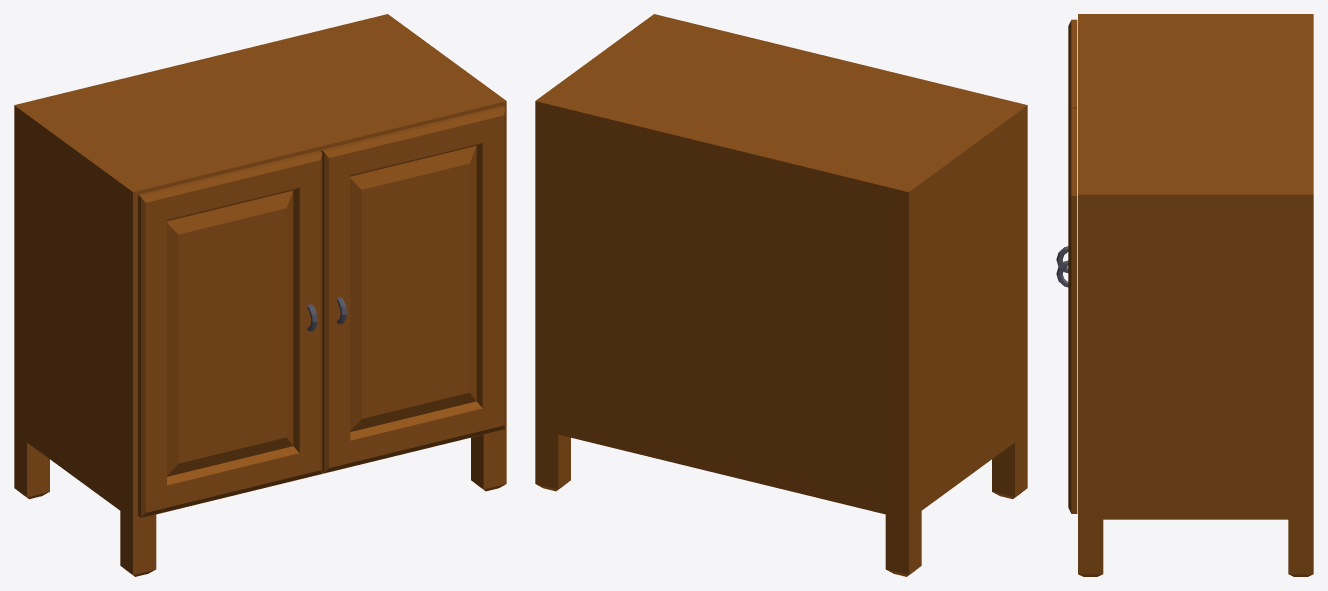
The model's file is cabinet.glb.
The picture shows the model from 3 angles, left to right: view 1: azimuth 30°, elevation 25°; view 2: azimuth 150°, elevation 25°; view 3: azimuth 270°, elevation 25°; orthographic projection.
Visible parts, largest first — view 1: cabinet; view 2: cabinet; view 3: cabinet.
Boxes of the visible parts, x1,y1,x2,y2 form: cabinet: [14, 14, 506, 576]; cabinet: [535, 14, 1027, 576]; cabinet: [1056, 14, 1313, 576].
Size of the model in its own units: 1.49 by 1.48 by 0.895.
